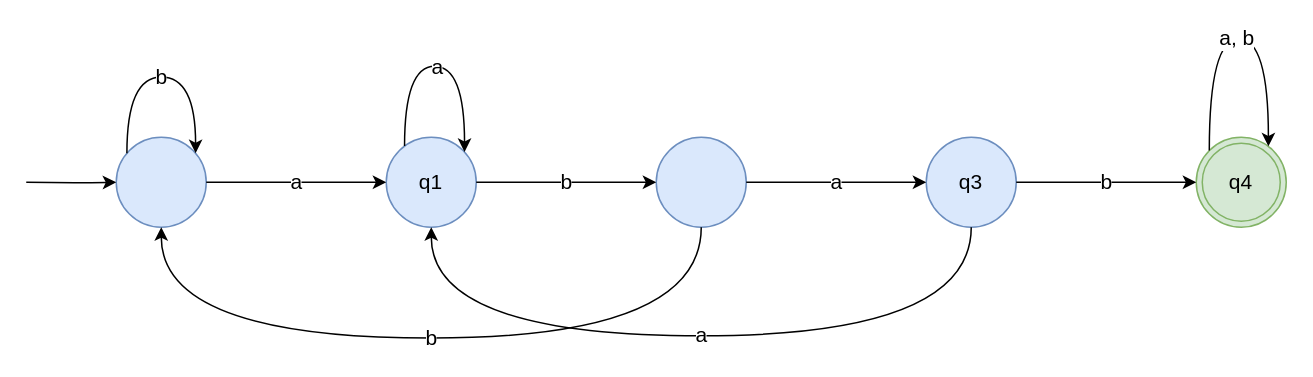
Image size: 1313x377. Some labels were removed from this diagram. Each missing label, with the box of its shape:
q0: (115, 136, 206, 227)
q2: (655, 136, 746, 227)
